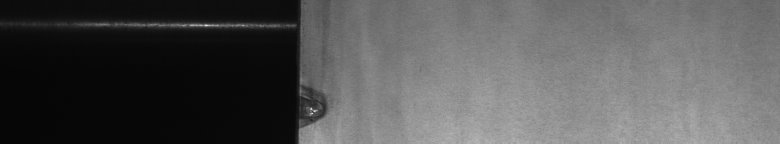hb: (308, 20, 335, 136)
